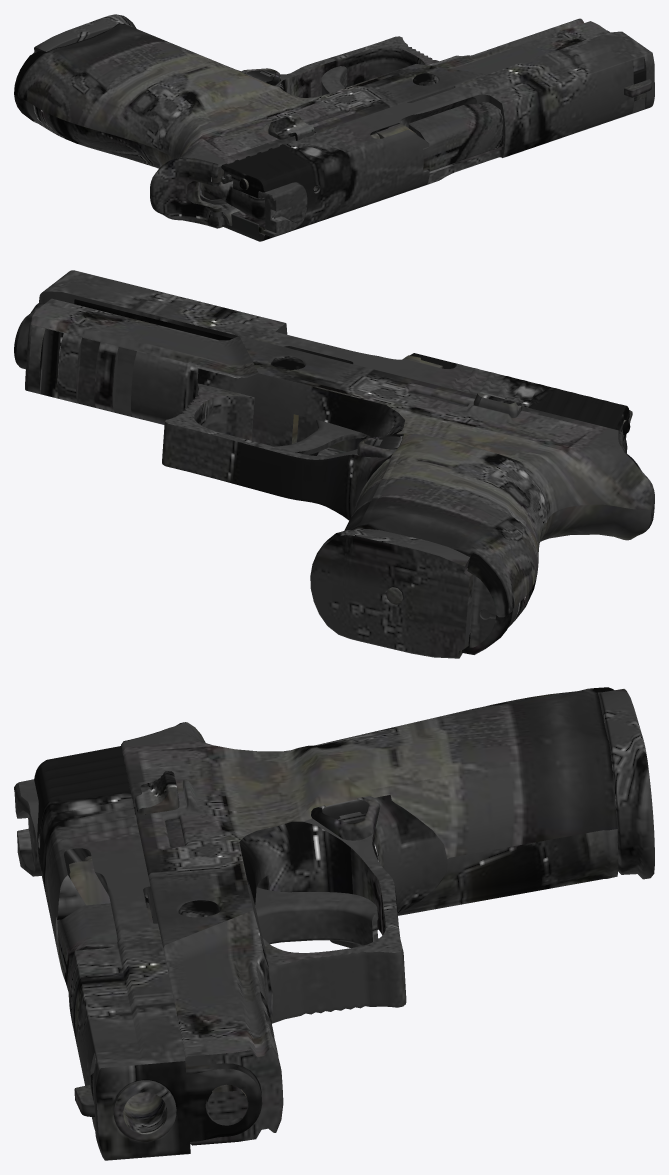
The picture shows the model from 3 angles, top to bottom: view 1: azimuth 30°, elevation 25°; view 2: azimuth 150°, elevation 25°; view 3: azimuth 270°, elevation 25°; orthographic projection. The views are drawn at different scales.
Visible parts, largest first — view 1: w_p228; view 2: w_p228; view 3: w_p228.
Boxes of the visible parts, x1=… form: w_p228: x1=14, y1=14, x2=654, y2=241; w_p228: x1=14, y1=270, x2=654, y2=658; w_p228: x1=14, y1=687, x2=654, y2=1160.
Bounding box in the file's own units: 0.3537 × 0.0668 × 0.2408.
Materials: 1 (1 with a texture image).
